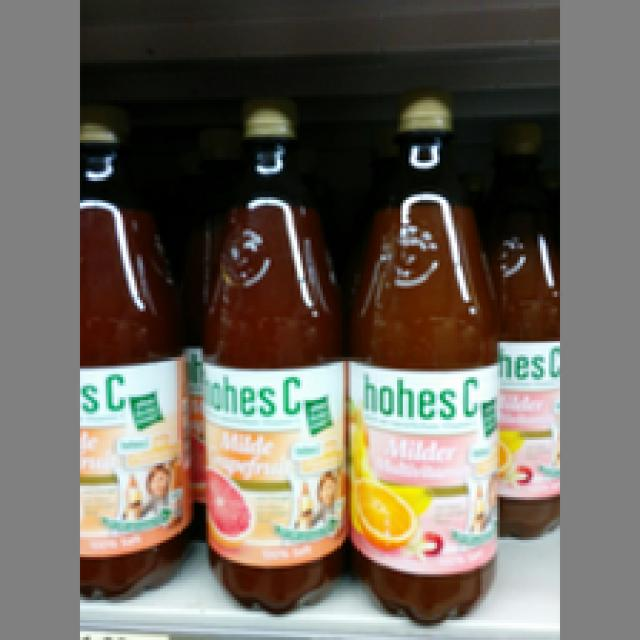groceries: (343, 89, 503, 626), (197, 95, 349, 614), (77, 100, 192, 594)
